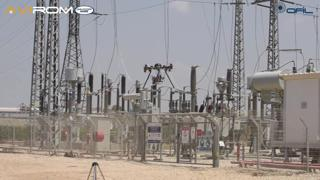UAV: (142, 63, 173, 74)
